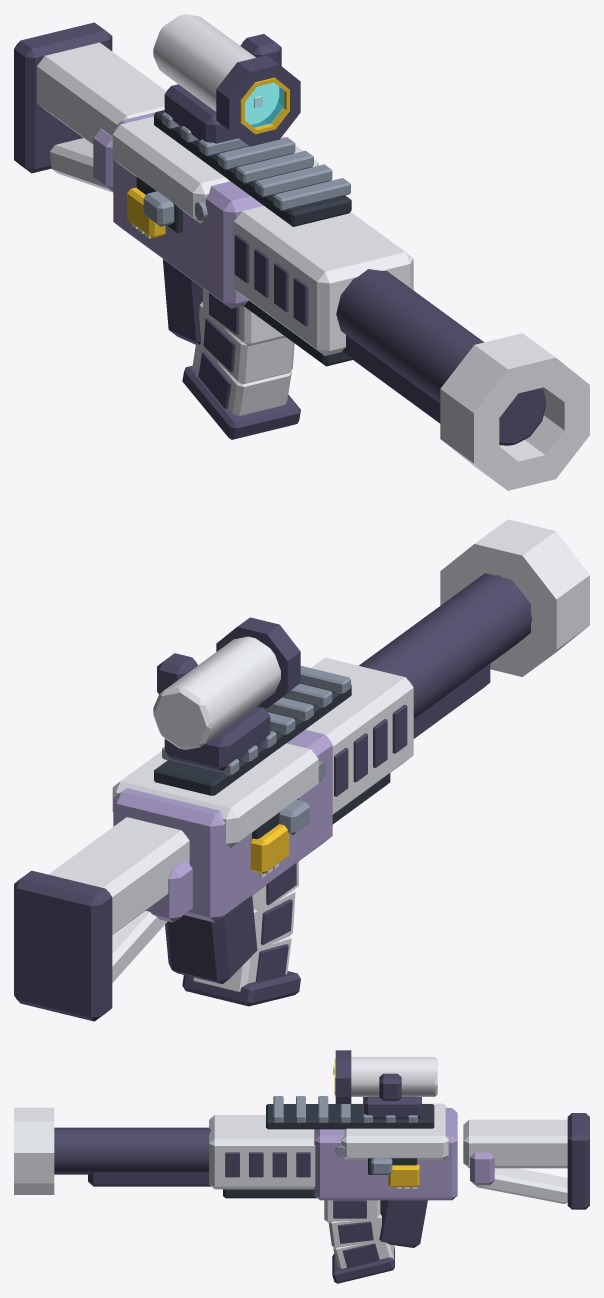
File: Future_Sniper_v002.fbx
The picture shows the model from 3 angles, top to bottom: view 1: azimuth 30°, elevation 25°; view 2: azimuth 150°, elevation 25°; view 3: azimuth 270°, elevation 25°; orthographic projection. The views are drawn at different scales.
Parts seen in each view (by area): view 1: Future_Sniper__RECEIVER_MESH, Future_Sniper__MAGAZINE_MESH; view 2: Future_Sniper__RECEIVER_MESH, Future_Sniper__MAGAZINE_MESH; view 3: Future_Sniper__RECEIVER_MESH, Future_Sniper__MAGAZINE_MESH.
Part boxes in pixels (x1,y1,x2,y2): Future_Sniper__RECEIVER_MESH: [14, 14, 589, 490]; Future_Sniper__MAGAZINE_MESH: [182, 288, 300, 439]; Future_Sniper__RECEIVER_MESH: [14, 519, 589, 1021]; Future_Sniper__MAGAZINE_MESH: [182, 861, 300, 1006]; Future_Sniper__RECEIVER_MESH: [14, 1050, 589, 1247]; Future_Sniper__MAGAZINE_MESH: [324, 1200, 394, 1283].
Size of the model in its own units: 0.475 by 1.08 by 2.57.
